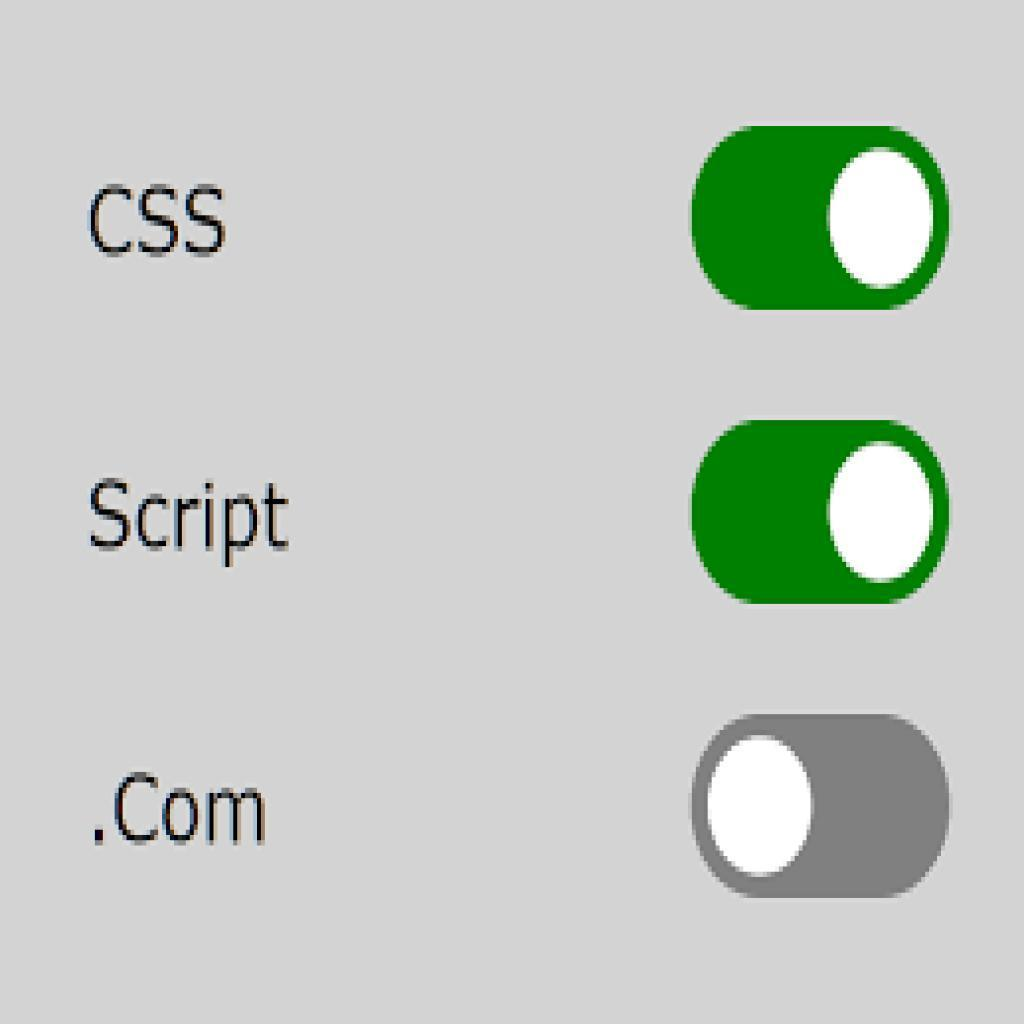switch: (692, 418, 953, 606), (691, 127, 952, 314), (693, 712, 949, 897)
